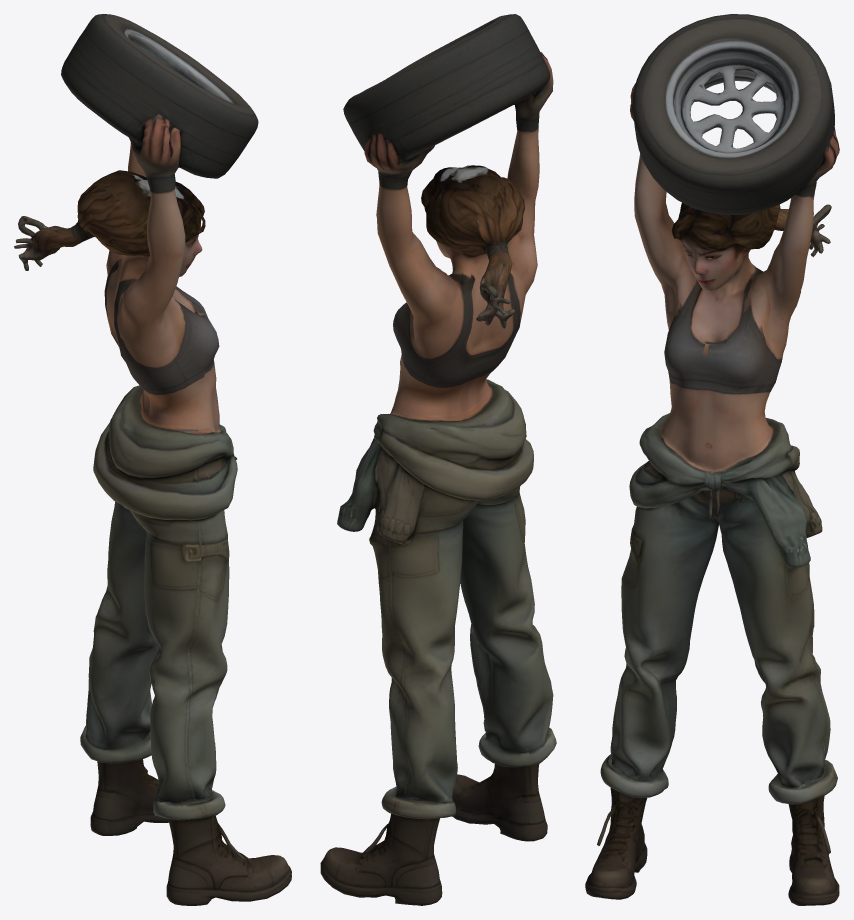
Rendered from female_porter.glb.
3 views of the same model, side by side, from view 1: azimuth 30°, elevation 25°; view 2: azimuth 150°, elevation 25°; view 3: azimuth 270°, elevation 25° (orthographic). The views are drawn at different scales.
Visible parts, largest first — view 1: tripo_node_149ca466-bd61-4602-9ec5-d7c7ce01cb6c; view 2: tripo_node_149ca466-bd61-4602-9ec5-d7c7ce01cb6c; view 3: tripo_node_149ca466-bd61-4602-9ec5-d7c7ce01cb6c.
Part boxes in pixels (x1,y1,x2,y2): tripo_node_149ca466-bd61-4602-9ec5-d7c7ce01cb6c: (14, 14, 291, 905); tripo_node_149ca466-bd61-4602-9ec5-d7c7ce01cb6c: (320, 14, 556, 905); tripo_node_149ca466-bd61-4602-9ec5-d7c7ce01cb6c: (585, 14, 839, 905).
Size of the model in its own units: 0.4619 by 1.96 by 0.5391.
1 material, 1 textured.
